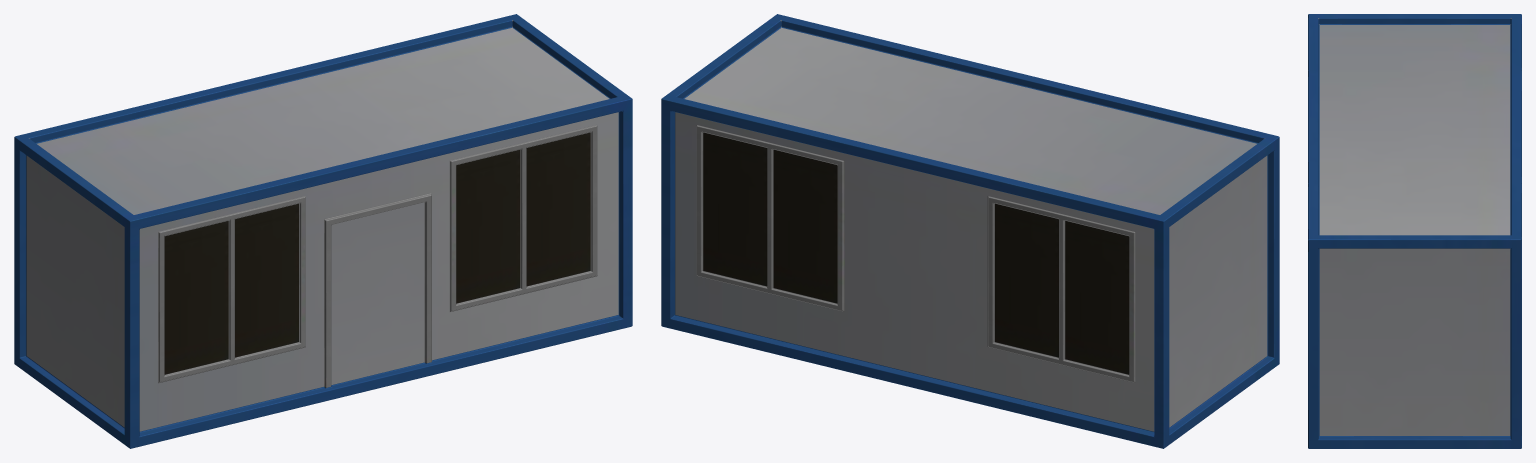
The model's file is bungalow_chantier.glb.
3 views of the same model, side by side, from view 1: azimuth 30°, elevation 25°; view 2: azimuth 150°, elevation 25°; view 3: azimuth 270°, elevation 25° (orthographic). The views are drawn at different scales.
Visible parts, largest first — view 1: Construction_Site_Container; view 2: Construction_Site_Container; view 3: Construction_Site_Container.
Boxes of the visible parts, bbox=[...] form: Construction_Site_Container: bbox=[14, 14, 632, 448]; Construction_Site_Container: bbox=[661, 14, 1279, 448]; Construction_Site_Container: bbox=[1308, 14, 1521, 448].
Size of the model in its own units: 6 by 2.6 by 2.4.
Materials: 1 (1 with a texture image).
